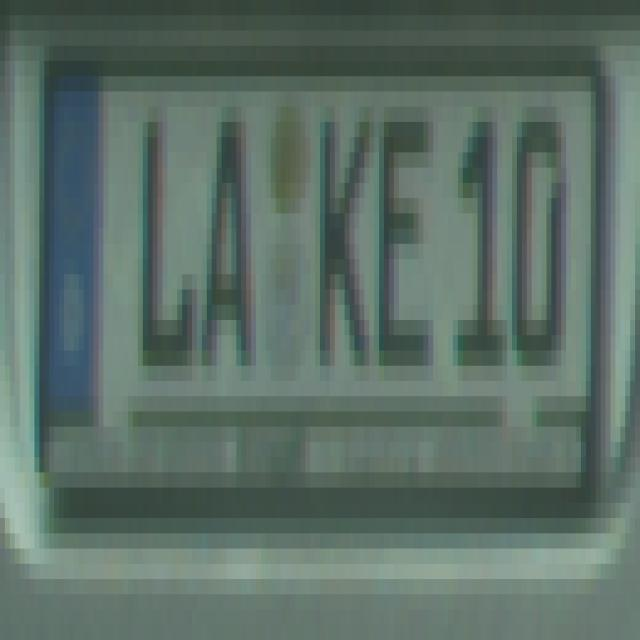Allemagne: (42, 64, 101, 416)
EU: (36, 44, 605, 493)
